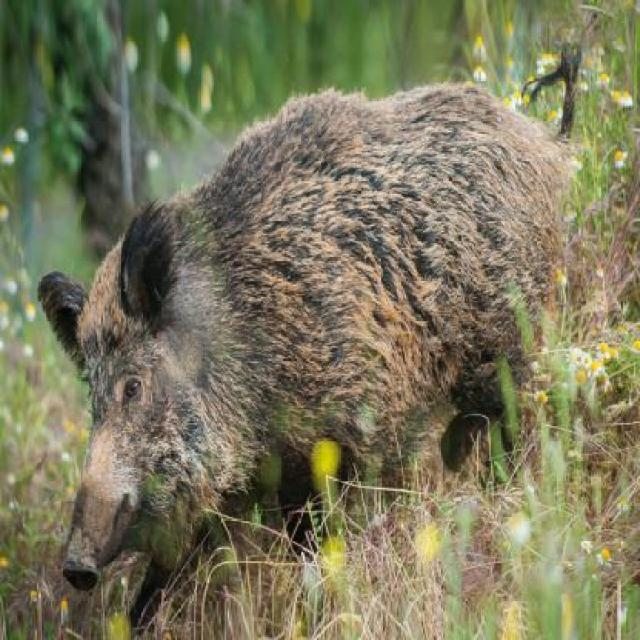Wild Boar: (38, 79, 628, 597)
